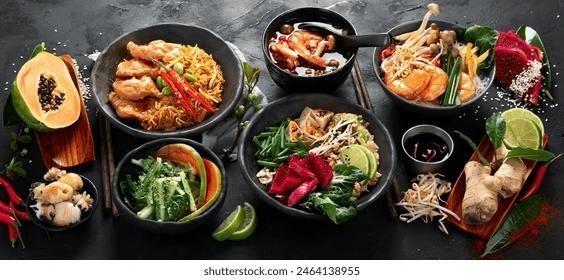Braised Crucian Carp: (236, 92, 396, 223), (90, 23, 243, 140), (372, 17, 491, 117), (110, 137, 226, 234), (261, 5, 361, 93)
